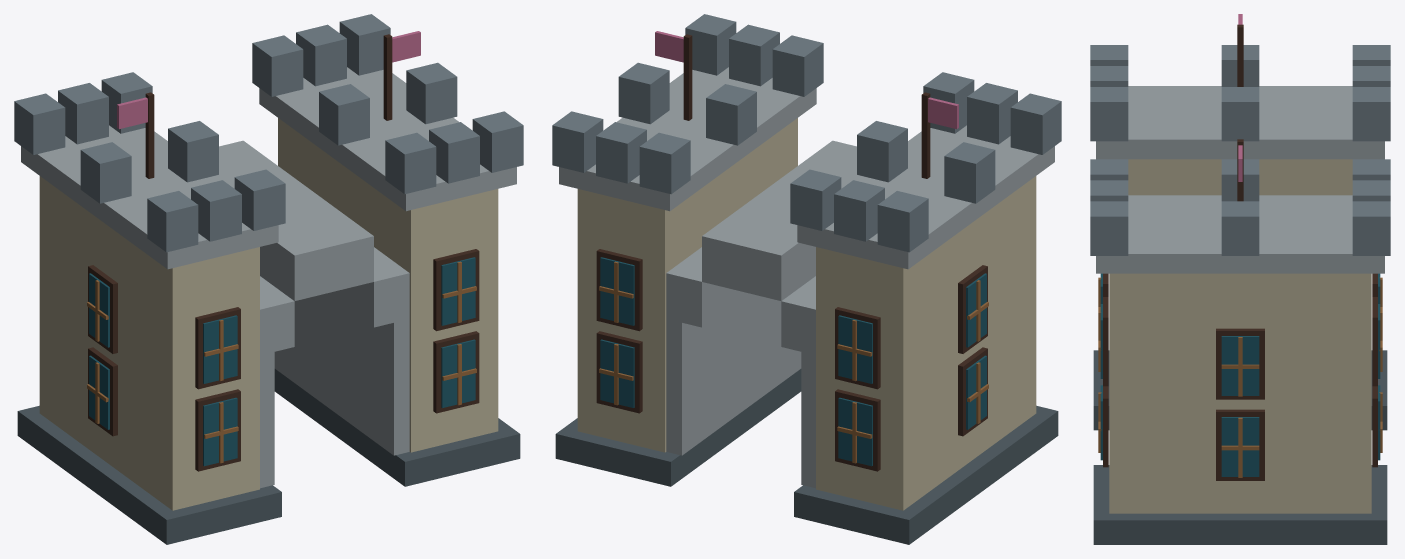
Rendered from Blockland_CastleGatehouse_Standard.glb.
The picture shows the model from 3 angles, left to right: view 1: azimuth 30°, elevation 25°; view 2: azimuth 150°, elevation 25°; view 3: azimuth 270°, elevation 25°; orthographic projection.
Visible parts, largest first — view 1: Blockland_CastleGatehouse_Standard; view 2: Blockland_CastleGatehouse_Standard; view 3: Blockland_CastleGatehouse_Standard.
Part boxes in pixels (x1=…): Blockland_CastleGatehouse_Standard: x1=14, y1=14, x2=523, y2=544; Blockland_CastleGatehouse_Standard: x1=552, y1=14, x2=1061, y2=544; Blockland_CastleGatehouse_Standard: x1=1090, y1=14, x2=1390, y2=544.
Bounding box in the file's own units: 4.5 × 4.6 × 3.32.
